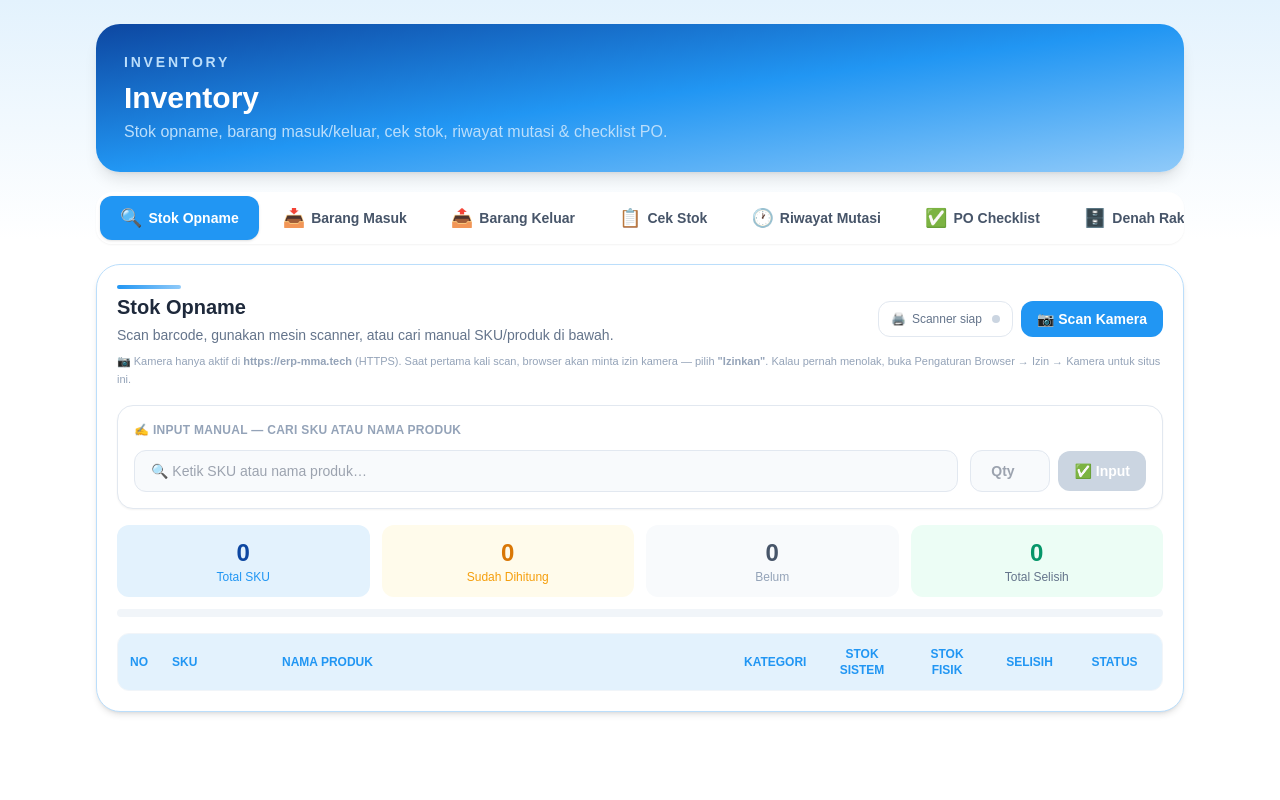
Scenario: StokBarangPage › switches to Cek Stok tab and shows summary cards
Click the tab "📋 Cek Stok".
click(663, 218)  # box [599,196,727,240]
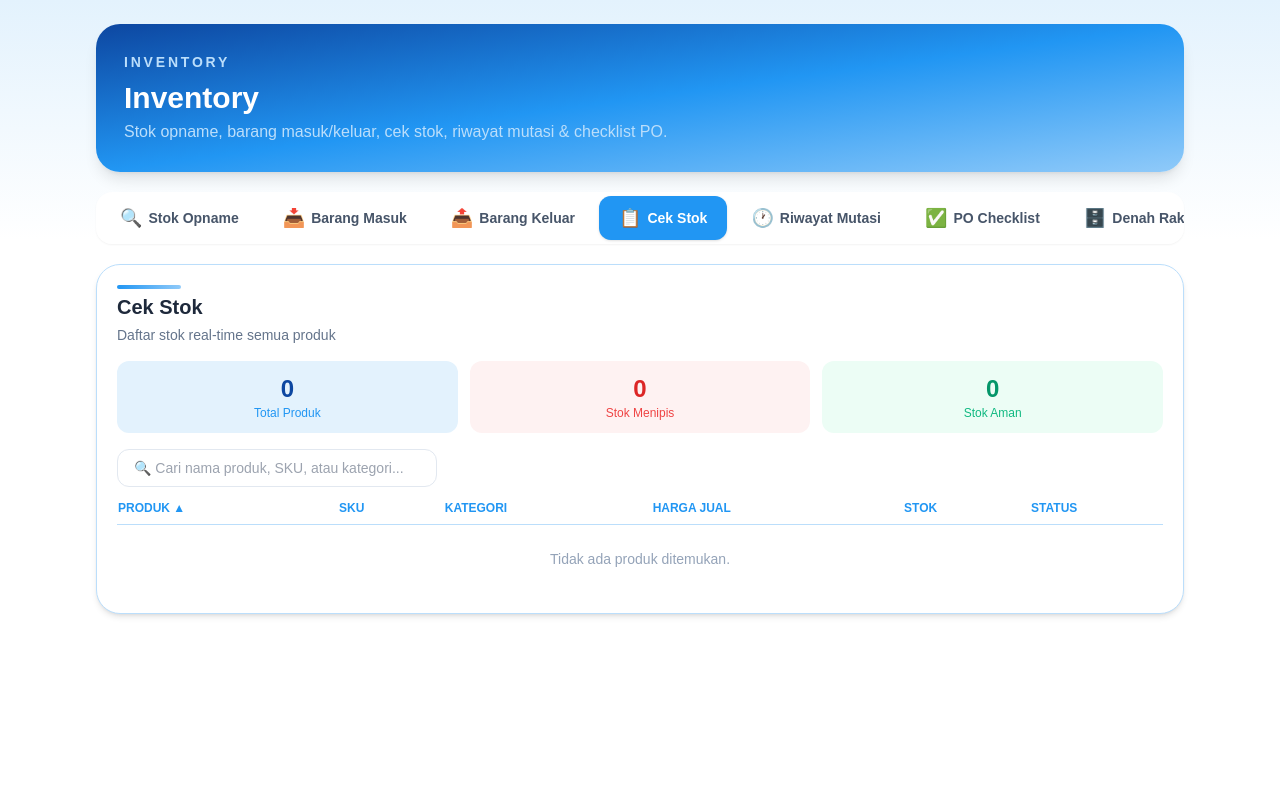
Now the text "Daftar stok real-time semua produk" is shown, box [117,327,336,343]
Now the text "Total Produk" is shown, box [254,406,321,420]
Now the text "Stok Menipis" is shown, box [606,406,674,420]
